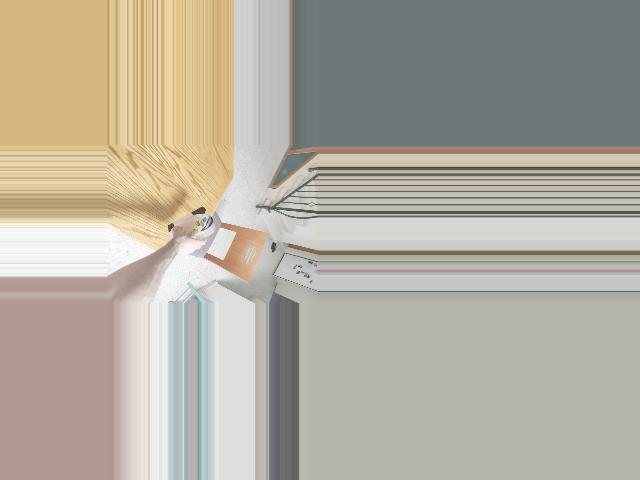cheese: (164, 207, 215, 253)
